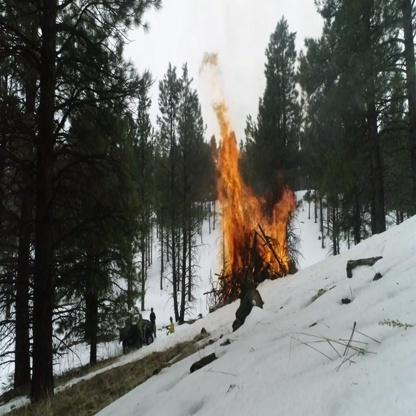Fire: (197, 50, 299, 300)
